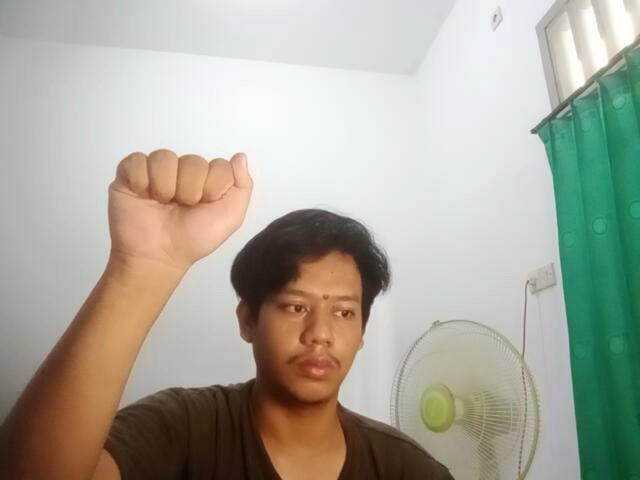A: (97, 142, 271, 269)
